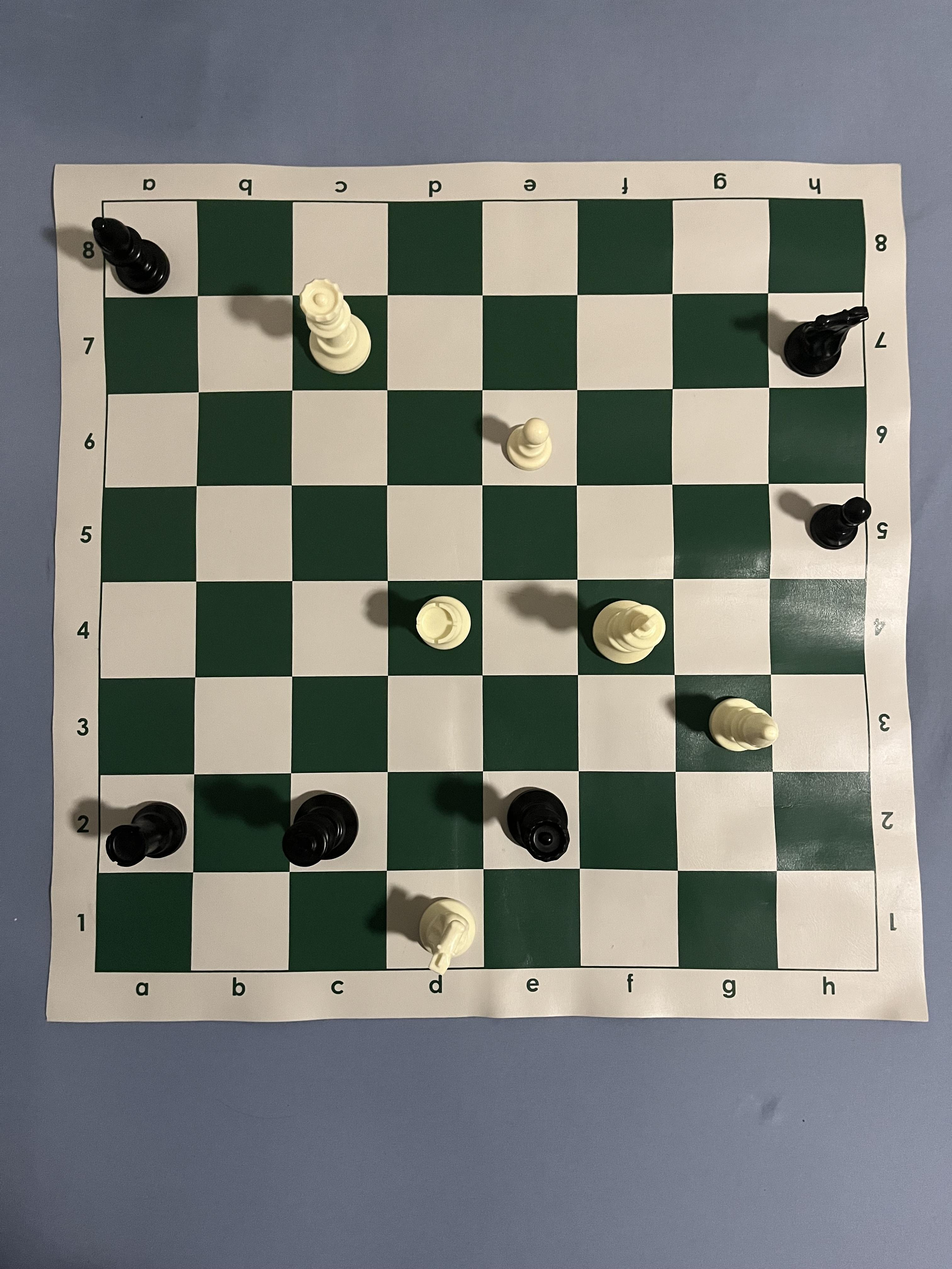black_bishop: (91, 216, 170, 294)
black_king: (281, 790, 360, 869)
black_knight: (783, 306, 870, 377)
black_pawn: (808, 497, 871, 550)
black_queen: (506, 787, 571, 863)
black_rook: (105, 801, 188, 869)
white_bishop: (707, 697, 779, 753)
white_king: (592, 600, 667, 666)
white_knight: (418, 897, 477, 975)
white_pawn: (505, 417, 553, 471)
white_queen: (298, 278, 372, 375)
white_rook: (416, 595, 472, 651)
